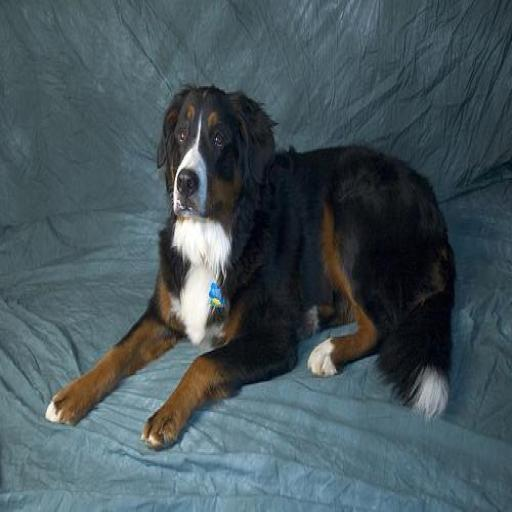dog_face: (158, 83, 269, 212)
